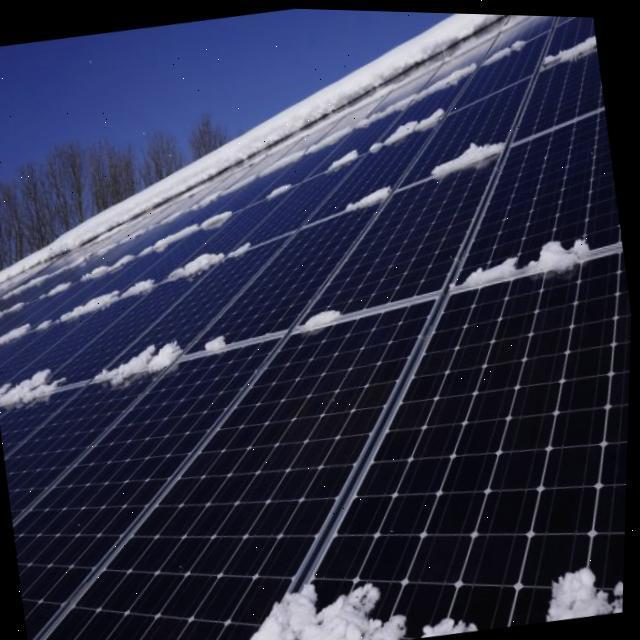Anomaly Solar Panel: (271, 244, 633, 640), (45, 291, 445, 640), (299, 115, 527, 378), (188, 171, 397, 390), (95, 210, 301, 407), (418, 107, 624, 303), (37, 240, 230, 410), (43, 211, 245, 335), (377, 72, 554, 195), (311, 96, 447, 247), (237, 134, 364, 273), (172, 174, 294, 292), (489, 42, 605, 144), (362, 64, 489, 150), (434, 26, 562, 109), (308, 92, 408, 194), (0, 381, 100, 464), (528, 13, 597, 65)
Snow: (219, 570, 416, 640), (461, 228, 595, 287), (533, 558, 627, 620), (91, 334, 188, 389), (0, 358, 73, 420), (432, 123, 505, 184), (375, 98, 449, 153), (160, 240, 230, 291), (53, 287, 122, 328), (538, 25, 597, 69), (409, 609, 485, 637), (325, 136, 366, 178), (343, 179, 394, 207), (117, 272, 159, 300), (306, 303, 345, 324), (208, 331, 232, 353)
